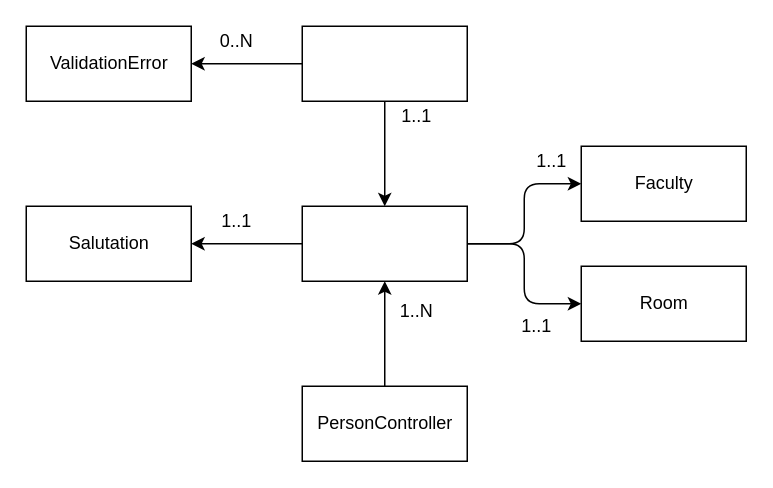
This 773x488 diagram has some shape labels left out. The centre of each missing label's shape, as x and y in pixels:
"Person" belongs at (x=384, y=243).
"PersonBuilder" belongs at (x=384, y=63).
